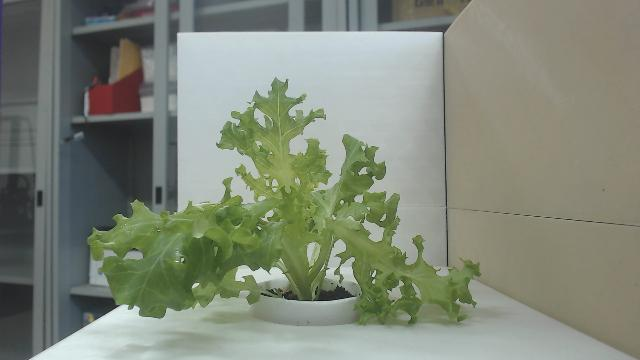Harvest Stage: (86, 77, 482, 328)
